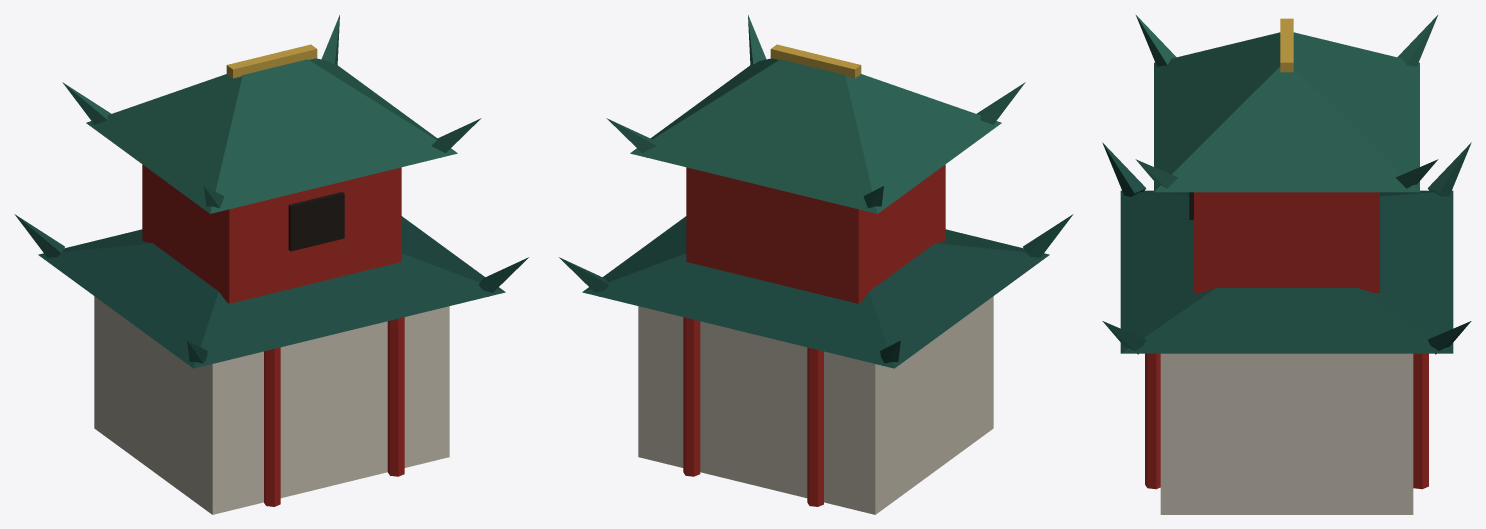
File: dragon_house_b_broken.glb
The picture shows the model from 3 angles, left to right: view 1: azimuth 30°, elevation 25°; view 2: azimuth 150°, elevation 25°; view 3: azimuth 270°, elevation 25°; orthographic projection. The views are drawn at different scales.
Parts seen in each view (by area): view 1: dragon_house_b_piece13, dragon_house_b_piece3, dragon_house_b_piece1, dragon_house_b_piece5, dragon_house_b_piece9, dragon_house_b_piece2, dragon_house_b_piece4, dragon_house_b_piece7, dragon_house_b_piece0, dragon_house_b_piece11, dragon_house_b_piece12; view 2: dragon_house_b_piece1, dragon_house_b_piece6, dragon_house_b_piece9, dragon_house_b_piece10, dragon_house_b_piece7, dragon_house_b_piece2, dragon_house_b_piece5, dragon_house_b_piece0, dragon_house_b_piece11, dragon_house_b_piece8, dragon_house_b_piece3, dragon_house_b_piece4 (+1 smaller); view 3: dragon_house_b_piece0, dragon_house_b_piece2, dragon_house_b_piece13, dragon_house_b_piece7, dragon_house_b_piece1, dragon_house_b_piece3, dragon_house_b_piece10, dragon_house_b_piece5, dragon_house_b_piece6, dragon_house_b_piece4, dragon_house_b_piece12, dragon_house_b_piece8.
Part boxes in pixels (box(x1,y1,x2,y2)): dragon_house_b_piece13: box(307, 107, 528, 356); dragon_house_b_piece3: box(253, 243, 446, 506); dragon_house_b_piece1: box(14, 81, 213, 433); dragon_house_b_piece5: box(181, 185, 307, 514); dragon_house_b_piece9: box(101, 288, 207, 511); dragon_house_b_piece2: box(261, 355, 449, 506); dragon_house_b_piece4: box(181, 95, 315, 299); dragon_house_b_piece7: box(203, 15, 339, 213); dragon_house_b_piece0: box(296, 16, 435, 253); dragon_house_b_piece11: box(138, 77, 225, 337); dragon_house_b_piece12: box(290, 49, 321, 114); dragon_house_b_piece1: box(768, 98, 994, 514); dragon_house_b_piece6: box(642, 101, 781, 485); dragon_house_b_piece9: box(756, 263, 1037, 511); dragon_house_b_piece10: box(688, 84, 867, 363); dragon_house_b_piece7: box(606, 44, 1025, 184); dragon_house_b_piece2: box(559, 255, 710, 476); dragon_house_b_piece5: box(928, 169, 1073, 431); dragon_house_b_piece0: box(609, 58, 776, 289); dragon_house_b_piece11: box(851, 85, 1007, 294); dragon_house_b_piece8: box(680, 159, 864, 512); dragon_house_b_piece3: box(623, 229, 959, 325); dragon_house_b_piece4: box(907, 164, 949, 268); dragon_house_b_piece0: box(1178, 77, 1437, 378); dragon_house_b_piece2: box(1145, 321, 1471, 514); dragon_house_b_piece13: box(1102, 106, 1269, 405); dragon_house_b_piece7: box(1136, 15, 1438, 170); dragon_house_b_piece1: box(1320, 15, 1471, 256); dragon_house_b_piece3: box(1120, 235, 1453, 412); dragon_house_b_piece10: box(1302, 34, 1453, 272); dragon_house_b_piece5: box(1102, 69, 1193, 236); dragon_house_b_piece6: box(1347, 122, 1453, 425); dragon_house_b_piece4: box(1159, 68, 1248, 111); dragon_house_b_piece12: box(1225, 63, 1351, 124); dragon_house_b_piece8: box(1380, 156, 1453, 290).
Bounding box in the file's own units: 3.18 × 3.42 × 2.78.
